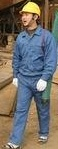boots: (0, 140, 21, 149), (38, 134, 48, 141)
gloves: (36, 77, 47, 90), (11, 76, 17, 87)
hard-hat: (0, 1, 19, 28)
ppe-suit: (0, 27, 23, 144)
